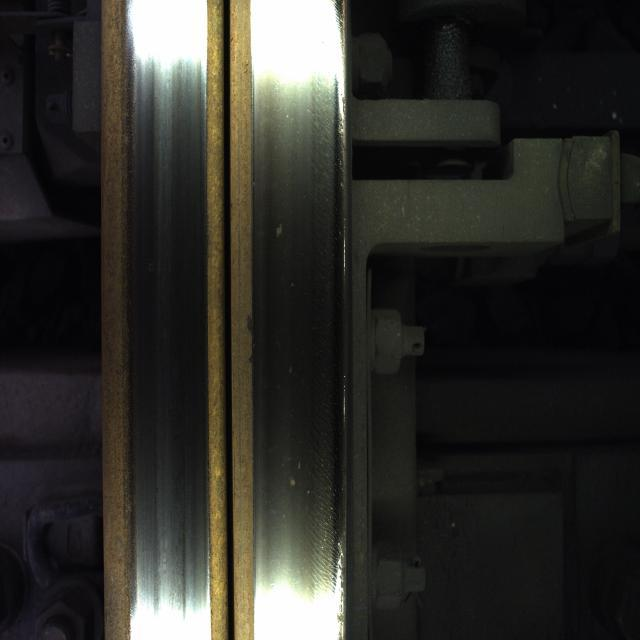break: (258, 24, 342, 608), (132, 44, 206, 585)
